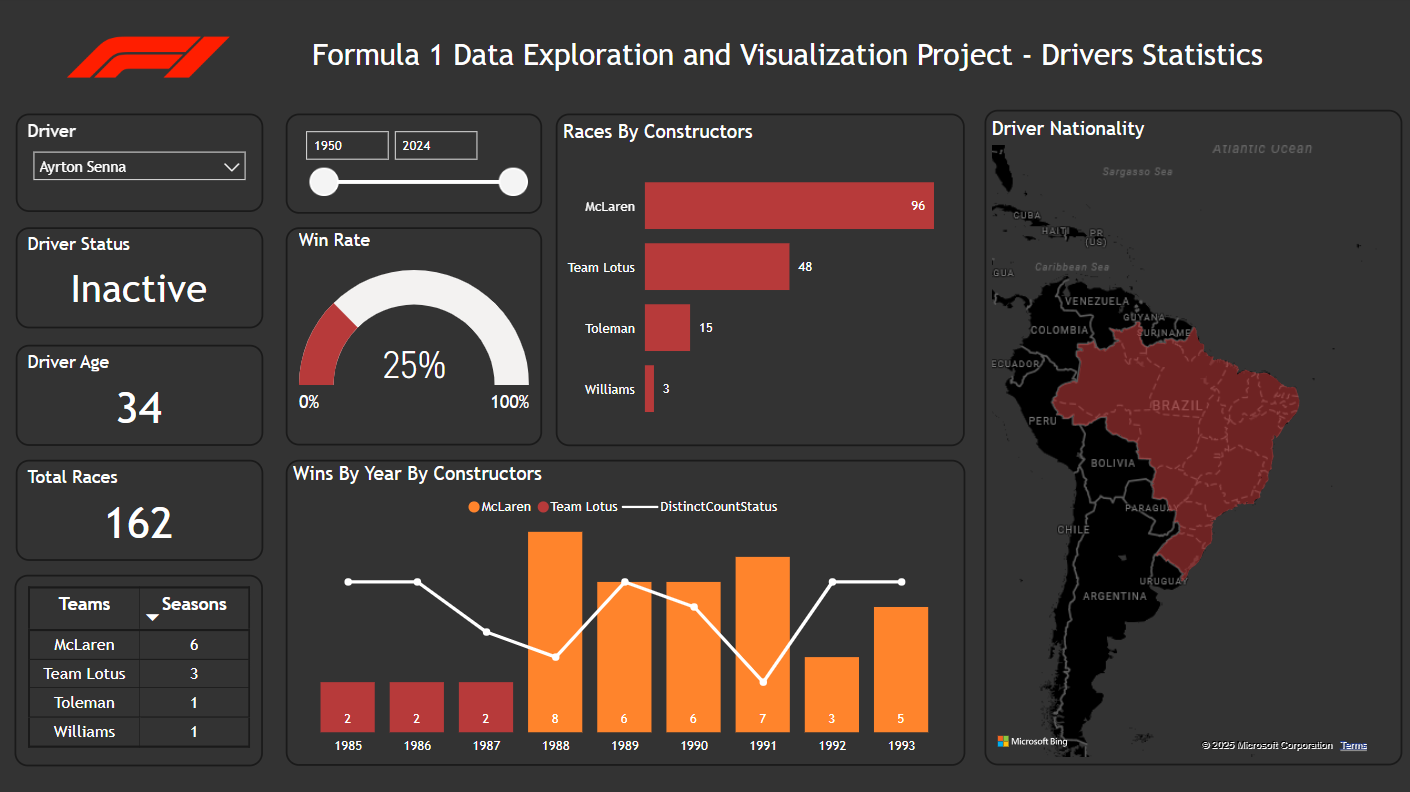

What the dashboard file says about the page in this screenshot:
{"tool":"powerbi","page":{"name":"Drivers","canvas":[1280,720],"ordinal":1},"visuals":[{"type":"image","box":[48,8.2,175.6,94.7],"z":0},{"type":"textbox","box":[168.6,32.9,1087.1,44.3],"z":1000},{"type":"slicer","fields":{"Values":["f1Dataset.year"]},"box":[260,105.7,231.4,90],"z":2000},{"type":"slicer","title":"Driver","fields":{"Values":["f1Dataset.driverName"]},"box":[17.1,105.7,222.9,88.6],"z":3000},{"type":"card","title":"Driver Age","fields":{"Values":["f1Dataset.driverAge"]},"box":[17.1,314.3,222.9,91.4],"z":4000},{"type":"gauge","title":"Win Rate","fields":{"Y":["f1Dataset.WinsByDriverRate"]},"box":[260,208.6,231.4,197.1],"z":5000},{"type":"filledMap","title":"Driver Nationality","fields":{"Category":["f1Dataset.driverNationality"]},"box":[890,102.9,377.1,591.4],"z":6000},{"type":"tableEx","fields":{"Values":["f1Dataset.constructorName","f1Dataset.year"]},"box":[15.7,521.4,224.3,172.9],"z":7000},{"type":"card","title":"Total Races","fields":{"Values":["f1Dataset.TotalRaces"]},"box":[17.1,418.6,222.9,91.4],"z":8000},{"type":"lineStackedColumnComboChart","title":"Wins By Year By Constructors","fields":{"Category":["f1Dataset03.date.Variation.Date Hierarchy.Year"],"Y2":["f1Dataset.FilteredStatus"],"Series":["f1Dataset.constructorName"],"Y":["f1Dataset.Wins"]},"box":[260,418.6,612.9,275.7],"z":9000},{"type":"clusteredBarChart","title":"Races By Constructors","fields":{"Category":["f1Dataset.constructorName"],"Y":["f1Dataset.TotalRaces"]},"box":[504.3,105.7,368.6,300],"z":10000},{"type":"card","title":"Driver Status","fields":{"Values":["f1Dataset.ActiveDrivers"]},"box":[17.1,208.6,222.9,91.4],"z":11000}]}

Visuals, with their boxes in screenshot pixels (x1, y1, x2, y2), scaled from the page's 1280x720 canvas onto the 1410x792 screenshot:
image: {"x1": 53, "y1": 9, "x2": 246, "y2": 113}
textbox: {"x1": 186, "y1": 36, "x2": 1383, "y2": 85}
slicer - f1Dataset.year: {"x1": 286, "y1": 116, "x2": 541, "y2": 215}
"Driver" slicer: {"x1": 19, "y1": 116, "x2": 264, "y2": 214}
"Driver Age" card: {"x1": 19, "y1": 346, "x2": 264, "y2": 446}
"Win Rate" gauge: {"x1": 286, "y1": 229, "x2": 541, "y2": 446}
"Driver Nationality" filledMap: {"x1": 980, "y1": 113, "x2": 1396, "y2": 764}
tableEx - f1Dataset.constructorName x f1Dataset.year: {"x1": 17, "y1": 574, "x2": 264, "y2": 764}
"Total Races" card: {"x1": 19, "y1": 460, "x2": 264, "y2": 561}
"Wins By Year By Constructors" lineStackedColumnComboChart: {"x1": 286, "y1": 460, "x2": 962, "y2": 764}
"Races By Constructors" clusteredBarChart: {"x1": 556, "y1": 116, "x2": 962, "y2": 446}
"Driver Status" card: {"x1": 19, "y1": 229, "x2": 264, "y2": 330}
